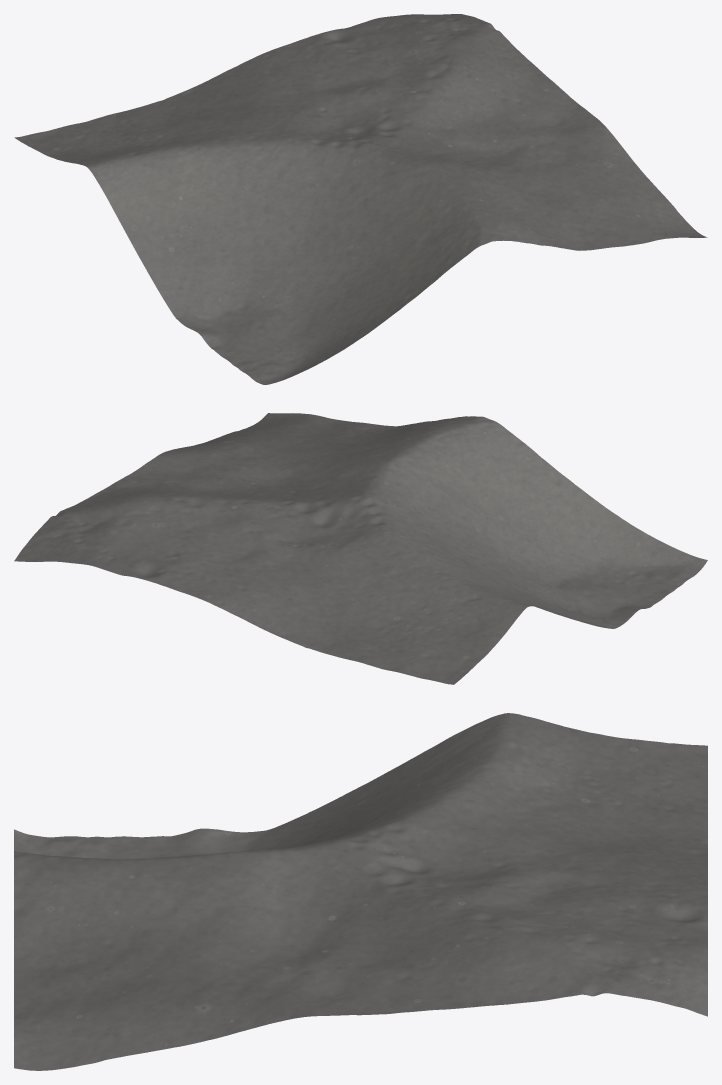
File: shackleton-rim.glb
3 renders of one model, top to bottom at view 1: azimuth 30°, elevation 25°; view 2: azimuth 150°, elevation 25°; view 3: azimuth 270°, elevation 25°, orthographic. The views are drawn at different scales.
Parts seen in each view (by area): view 1: Ground; view 2: Ground; view 3: Ground.
Boxes of the visible parts, bbox=[...] form: Ground: bbox=[14, 14, 707, 384]; Ground: bbox=[14, 413, 707, 684]; Ground: bbox=[14, 713, 707, 1070].
Bounding box in the file's own units: 20 × 4.81 × 20.
1 material, 1 textured.
